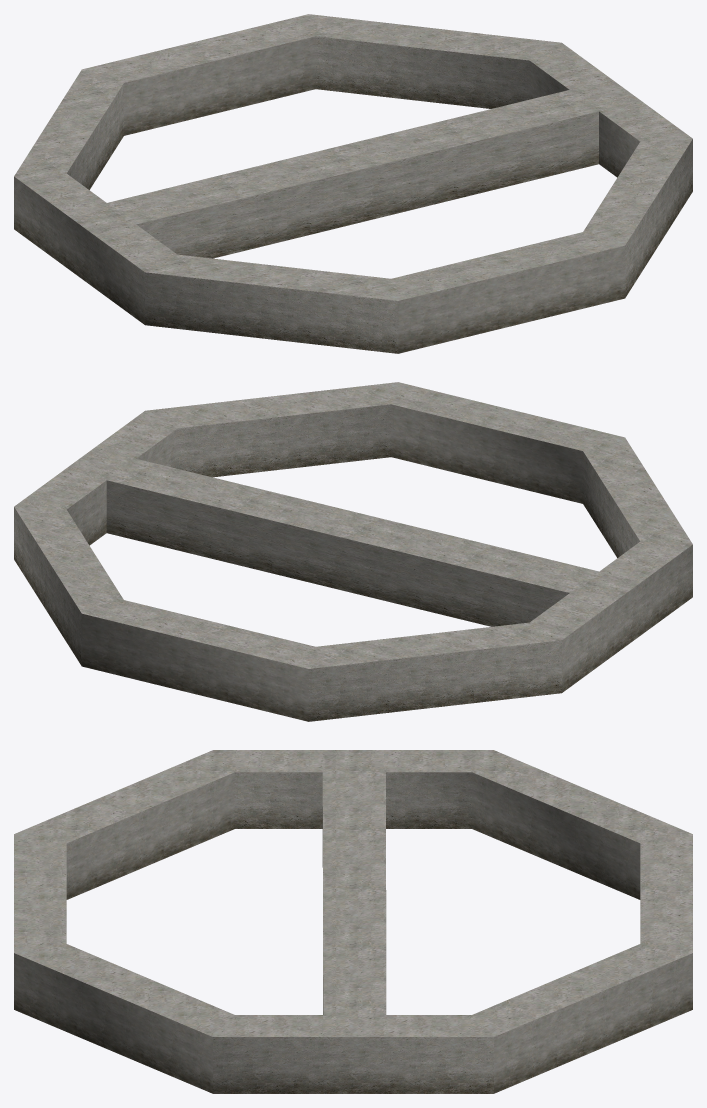
The model's file is WP_TOP_I.fbx.
The picture shows the model from 3 angles, top to bottom: view 1: azimuth 30°, elevation 25°; view 2: azimuth 150°, elevation 25°; view 3: azimuth 270°, elevation 25°; orthographic projection. The views are drawn at different scales.
Parts seen in each view (by area): view 1: WP_TOP_I; view 2: WP_TOP_I; view 3: WP_TOP_I.
Boxes of the visible parts, x1=… form: WP_TOP_I: x1=14, y1=14, x2=692, y2=353; WP_TOP_I: x1=14, y1=382, x2=692, y2=721; WP_TOP_I: x1=14, y1=750, x2=692, y2=1093.
Size of the model in its own units: 10848 by 1000 by 10847.
Materials: 2 (2 with a texture image).
